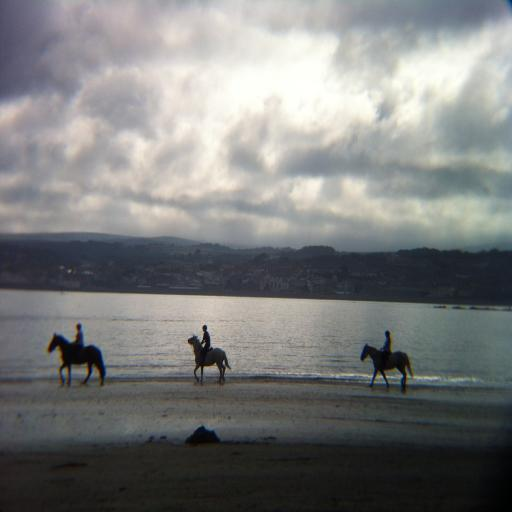horse: (46, 330, 106, 388), (360, 342, 414, 387), (186, 334, 232, 383)
